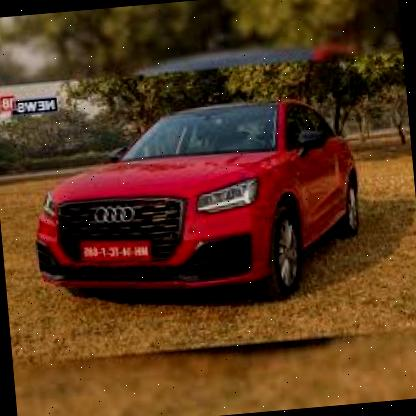car: (14, 82, 378, 332)
